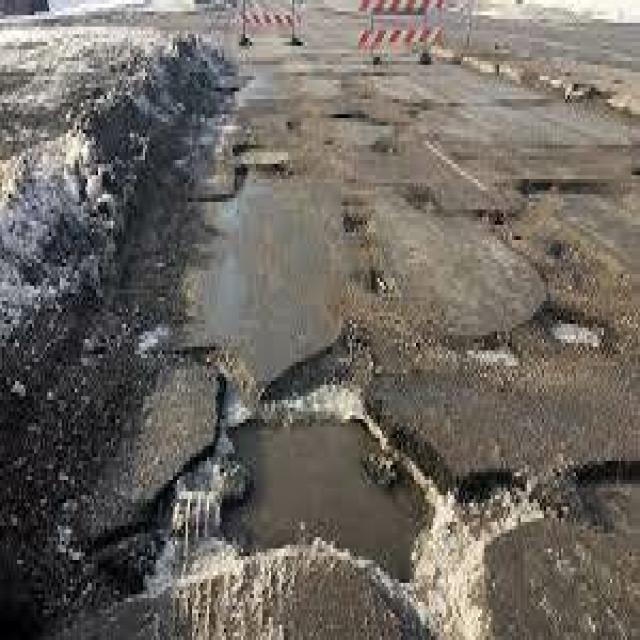Pothole: (173, 76, 616, 640)
